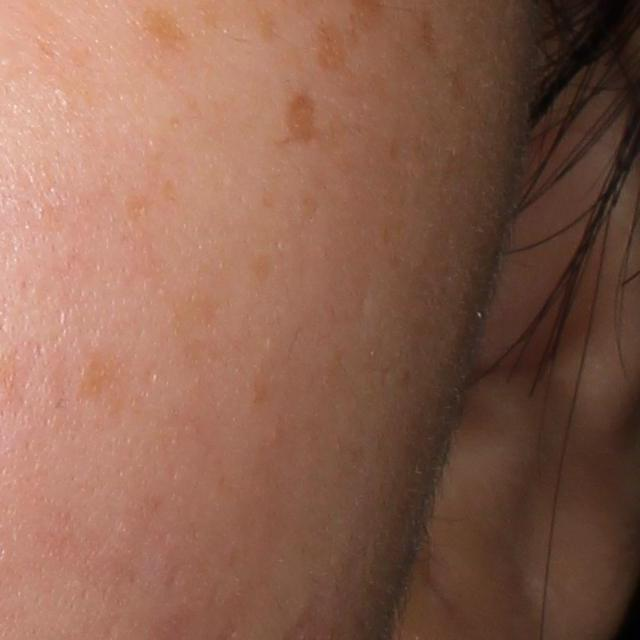melasma: (170, 292, 224, 369), (404, 0, 446, 68), (139, 6, 193, 55), (75, 356, 127, 405), (284, 92, 326, 145), (254, 2, 283, 44)
